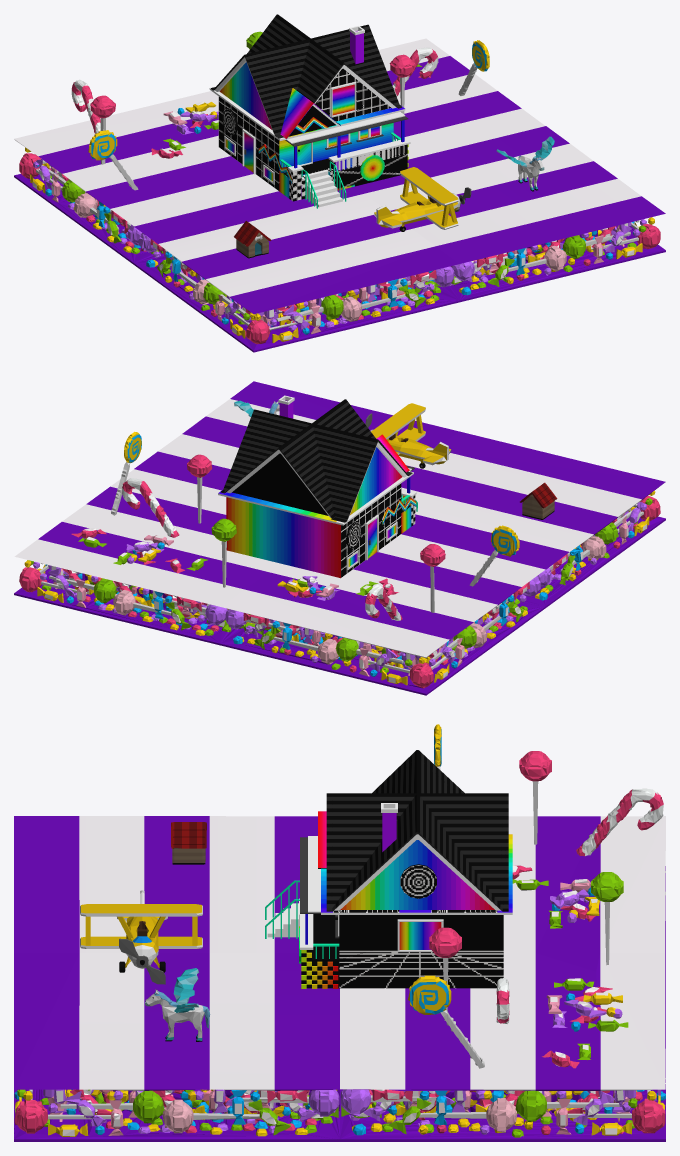
3 renders of one model, top to bottom at view 1: azimuth 30°, elevation 25°; view 2: azimuth 150°, elevation 25°; view 3: azimuth 270°, elevation 25°, orthographic. The views are drawn at different scales.
Parts seen in each view (by area): view 1: TERRAIN_CANDY, Cube.1320, VEHICLES_AIRPLANE, ANIMAL_PEGASO, OBJRANDOM_DOGHOUSE; view 2: TERRAIN_CANDY, Cube.1320, VEHICLES_AIRPLANE, OBJRANDOM_DOGHOUSE; view 3: TERRAIN_CANDY, Cube.1320, VEHICLES_AIRPLANE, ANIMAL_PEGASO, OBJRANDOM_DOGHOUSE.
Part boxes in pixels (x1=…): TERRAIN_CANDY: x1=14, y1=31, x2=665, y2=352; Cube.1320: x1=209, y1=14, x2=410, y2=208; VEHICLES_AIRPLANE: x1=374, y1=167, x2=471, y2=231; ANIMAL_PEGASO: x1=496, y1=136, x2=554, y2=191; OBJRANDOM_DOGHOUSE: x1=234, y1=221, x2=271, y2=258; TERRAIN_CANDY: x1=14, y1=381, x2=665, y2=695; Cube.1320: x1=218, y1=395, x2=417, y2=578; VEHICLES_AIRPLANE: x1=365, y1=403, x2=451, y2=468; OBJRANDOM_DOGHOUSE: x1=520, y1=482, x2=557, y2=519; TERRAIN_CANDY: x1=14, y1=724, x2=665, y2=1141; Cube.1320: x1=265, y1=750, x2=512, y2=988; VEHICLES_AIRPLANE: x1=80, y1=890, x2=202, y2=984; ANIMAL_PEGASO: x1=145, y1=968, x2=210, y2=1041; OBJRANDOM_DOGHOUSE: x1=171, y1=822, x2=206, y2=864.
Size of the model in its own units: 4059 by 1736 by 4000.
Materials: 34 (4 with a texture image).
